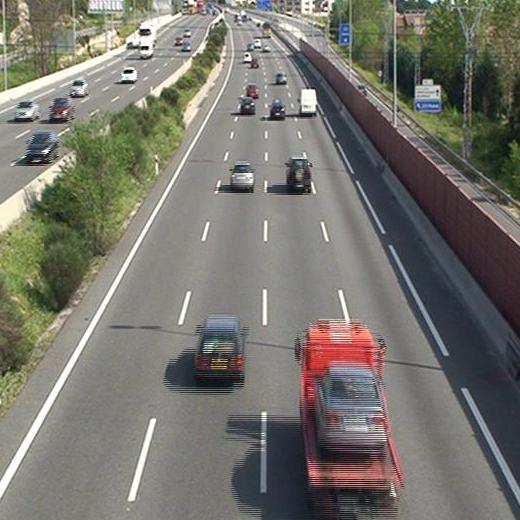car: (315, 365, 387, 452), (197, 318, 244, 381), (285, 157, 312, 192), (229, 163, 255, 190), (269, 103, 287, 121), (239, 98, 256, 116), (245, 83, 258, 98), (274, 72, 287, 85), (250, 58, 260, 69), (242, 51, 253, 61)
small-truck: (298, 322, 403, 519)
van: (300, 89, 316, 116)
